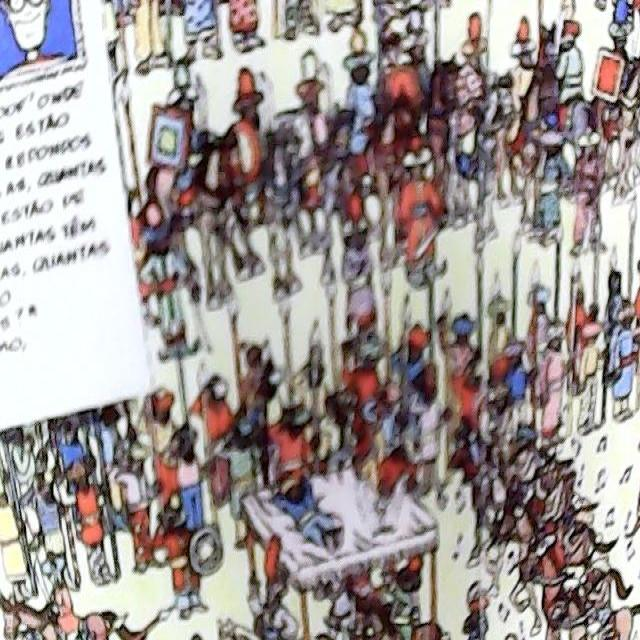waldo: (378, 25, 402, 74)
